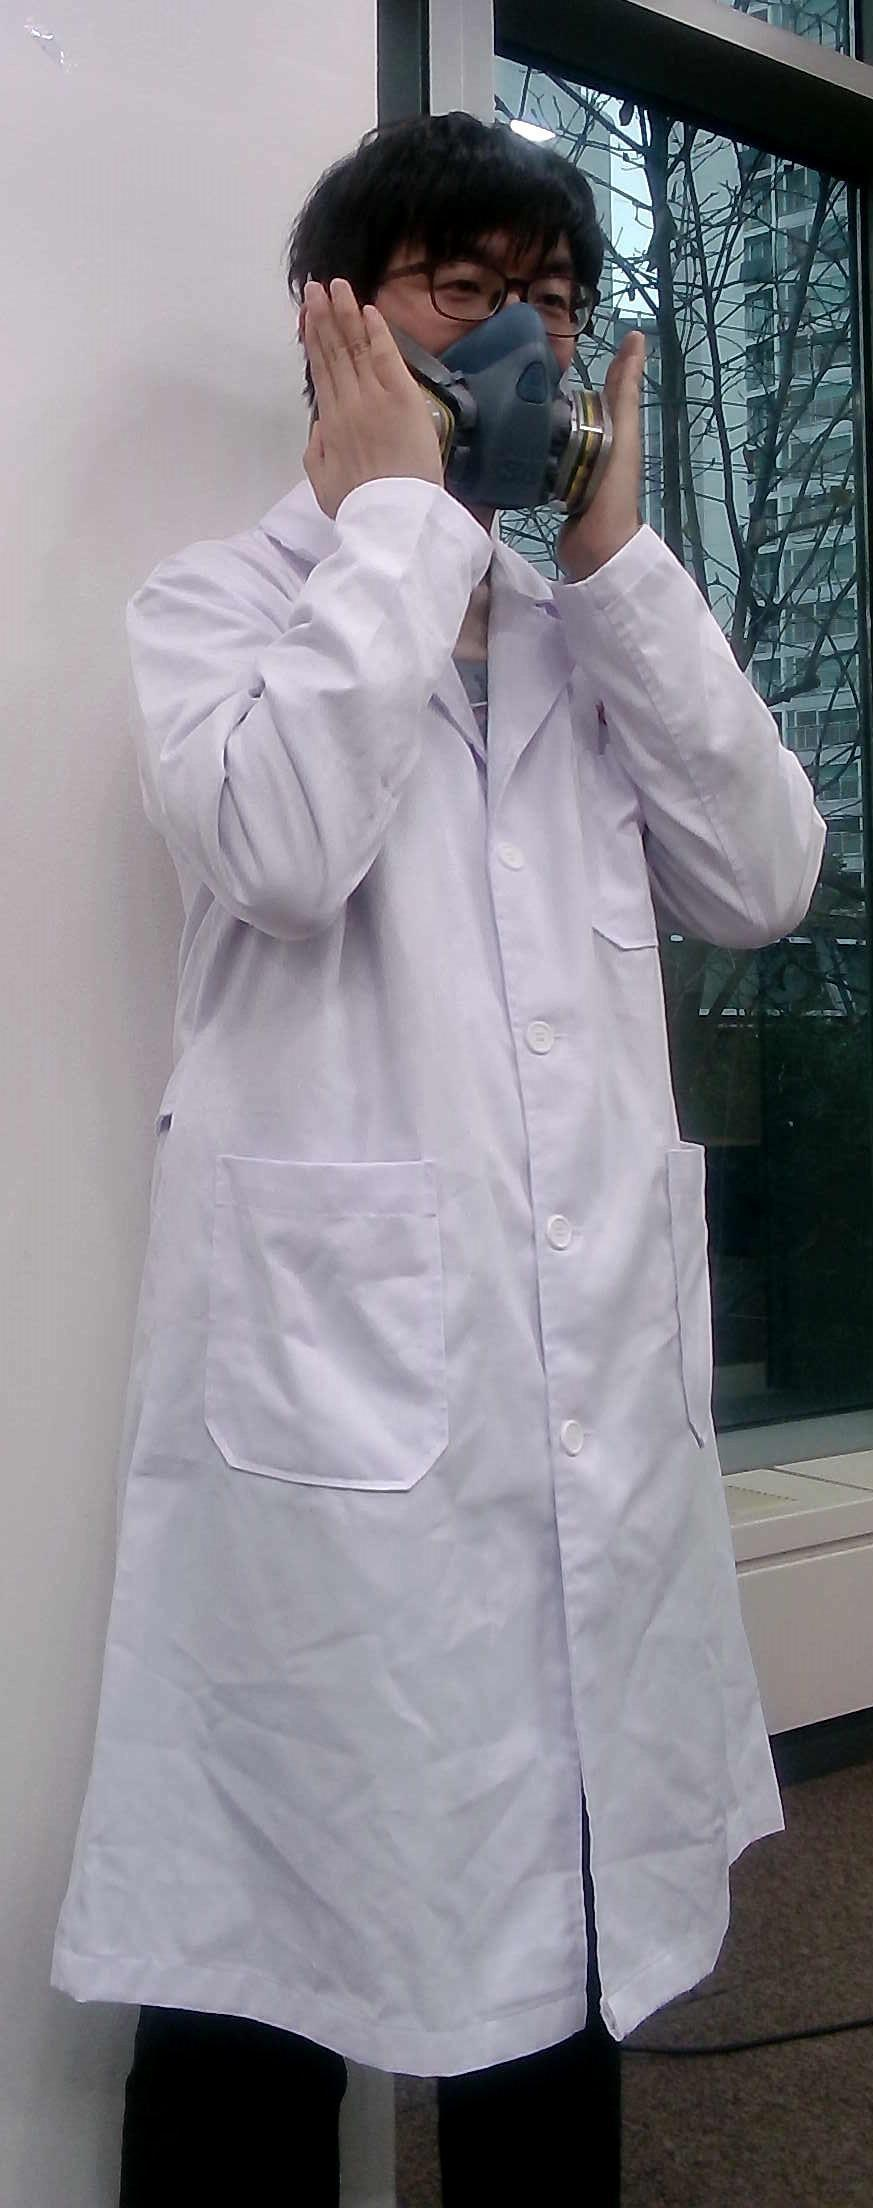lab_coat: (146, 541, 770, 2014)
